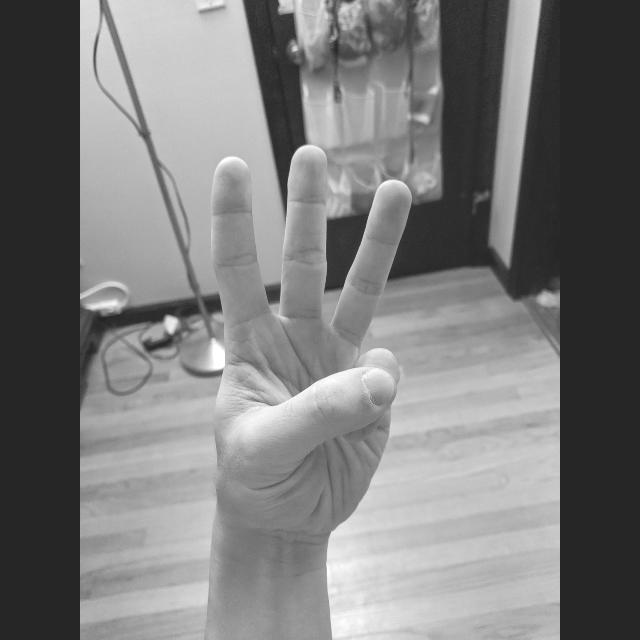W: (204, 140, 416, 536)
